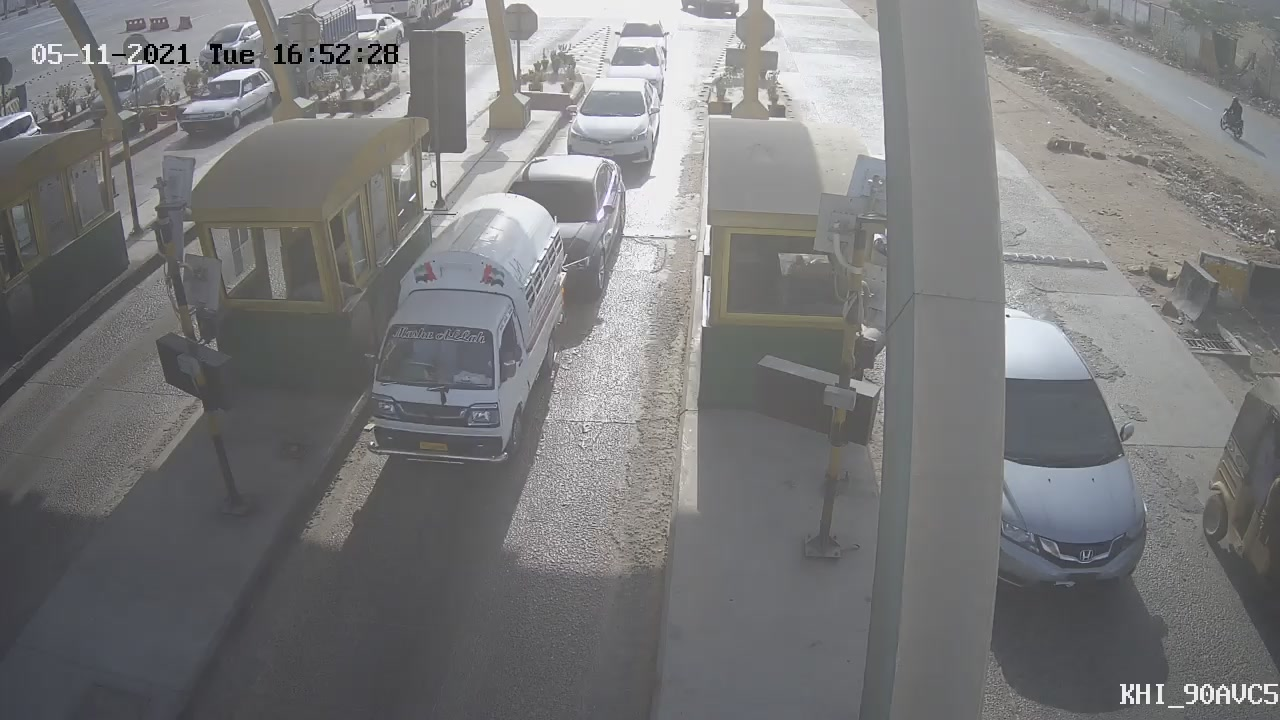F1: (365, 201, 582, 483), (544, 65, 676, 187)
